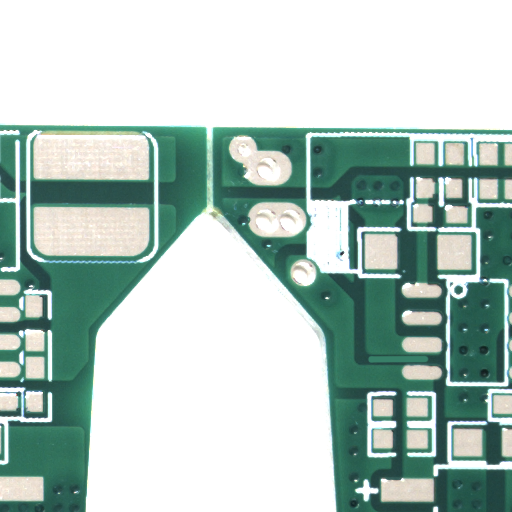Spurious_copper: (397, 359, 458, 368)
